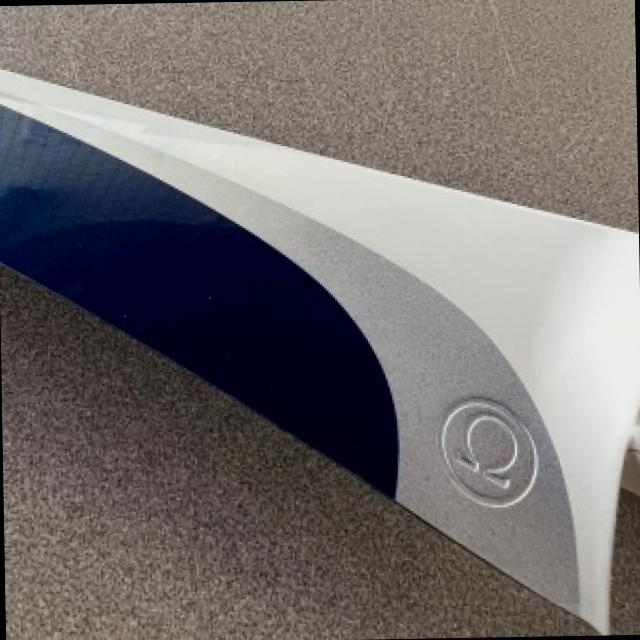healthy: (3, 266, 588, 639)
